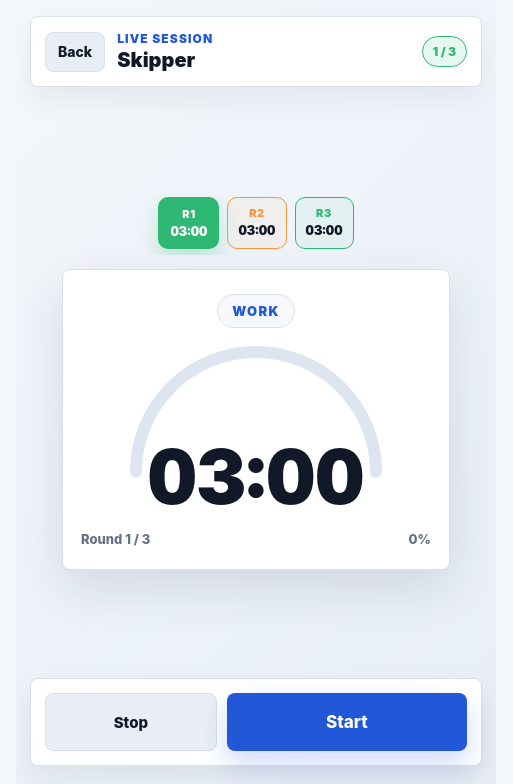
Test: SessionRunScreen › skips the current round into the prep countdown
The width and height of the screenshot is (513, 784).
Expected: the text "Skipper" is shown, [117,48,195,72]
What coordinates should you click on to do the following:
click the button "Start"
I would click on:
 (347, 722)
Its box is [227,693,467,751].
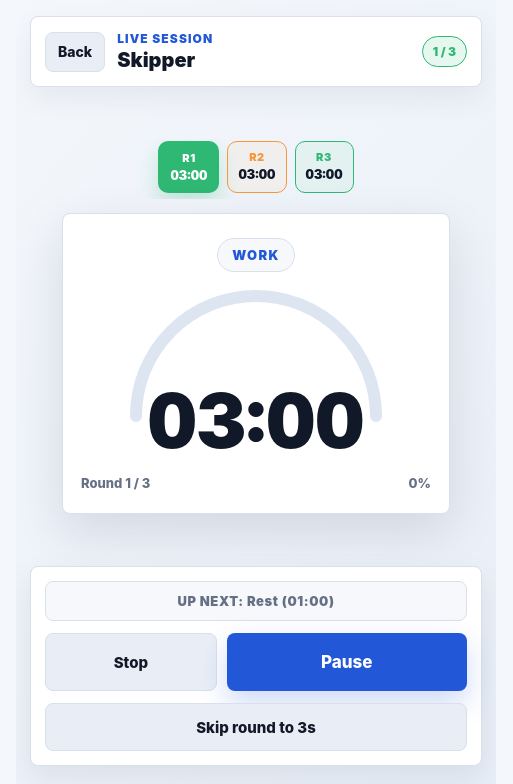
Expected: the text "WORK" is shown, [217,238,295,272]
What coordinates should you click on to do the following:
click the button "Skip round to 3s"
I would click on:
 (256, 727)
Its box is [45,703,467,751].
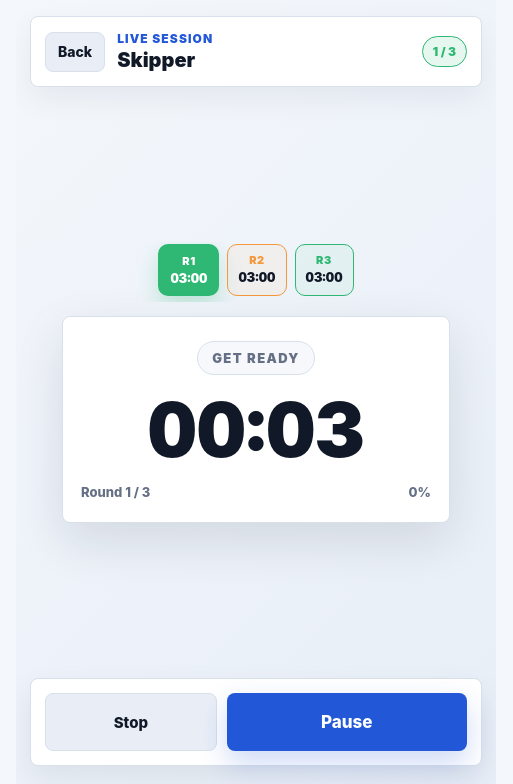
Result: the text "GET READY" is shown at [197,341,315,375]
